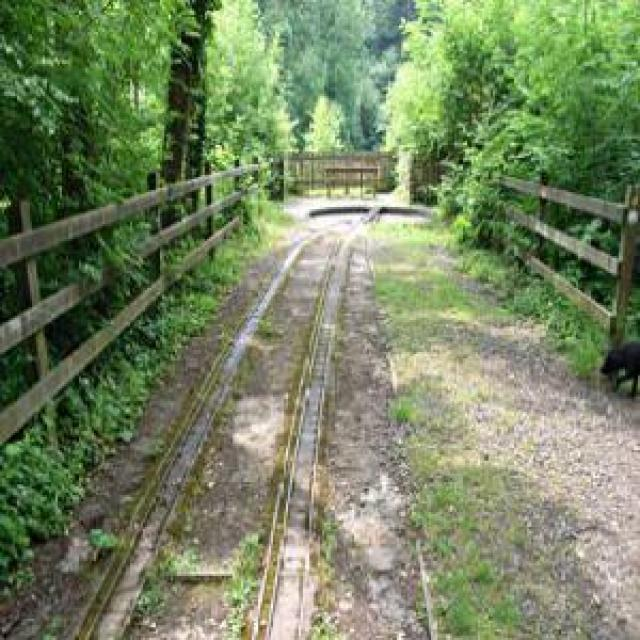rail: (42, 206, 390, 640)
